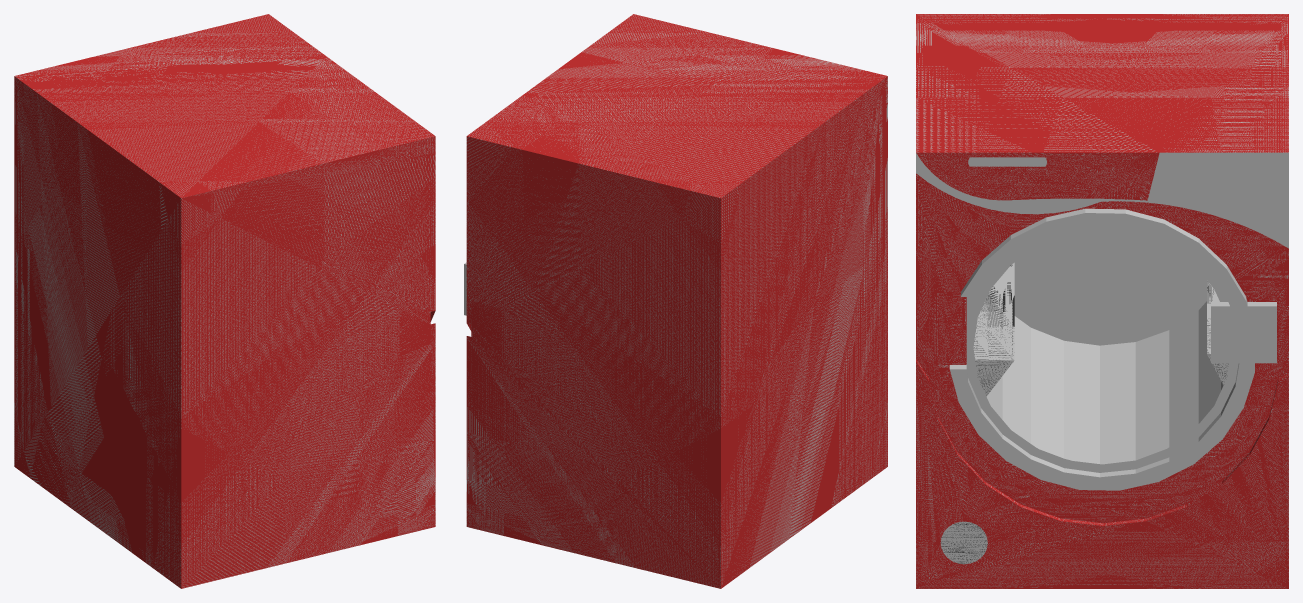
The picture shows the model from 3 angles, left to right: view 1: azimuth 30°, elevation 25°; view 2: azimuth 150°, elevation 25°; view 3: azimuth 270°, elevation 25°; orthographic projection. The views are drawn at different scales.
Visible parts, largest first — view 1: mesh1_mesh1-geometry; view 2: mesh1_mesh1-geometry; view 3: mesh1_mesh1-geometry.
Boxes of the visible parts, <box> form: mesh1_mesh1-geometry: <box>14,14,435,588</box>; mesh1_mesh1-geometry: <box>464,14,887,588</box>; mesh1_mesh1-geometry: <box>916,14,1288,588</box>.
Bounding box in the file's own units: 0.4856 × 0.6911 × 0.5353.
